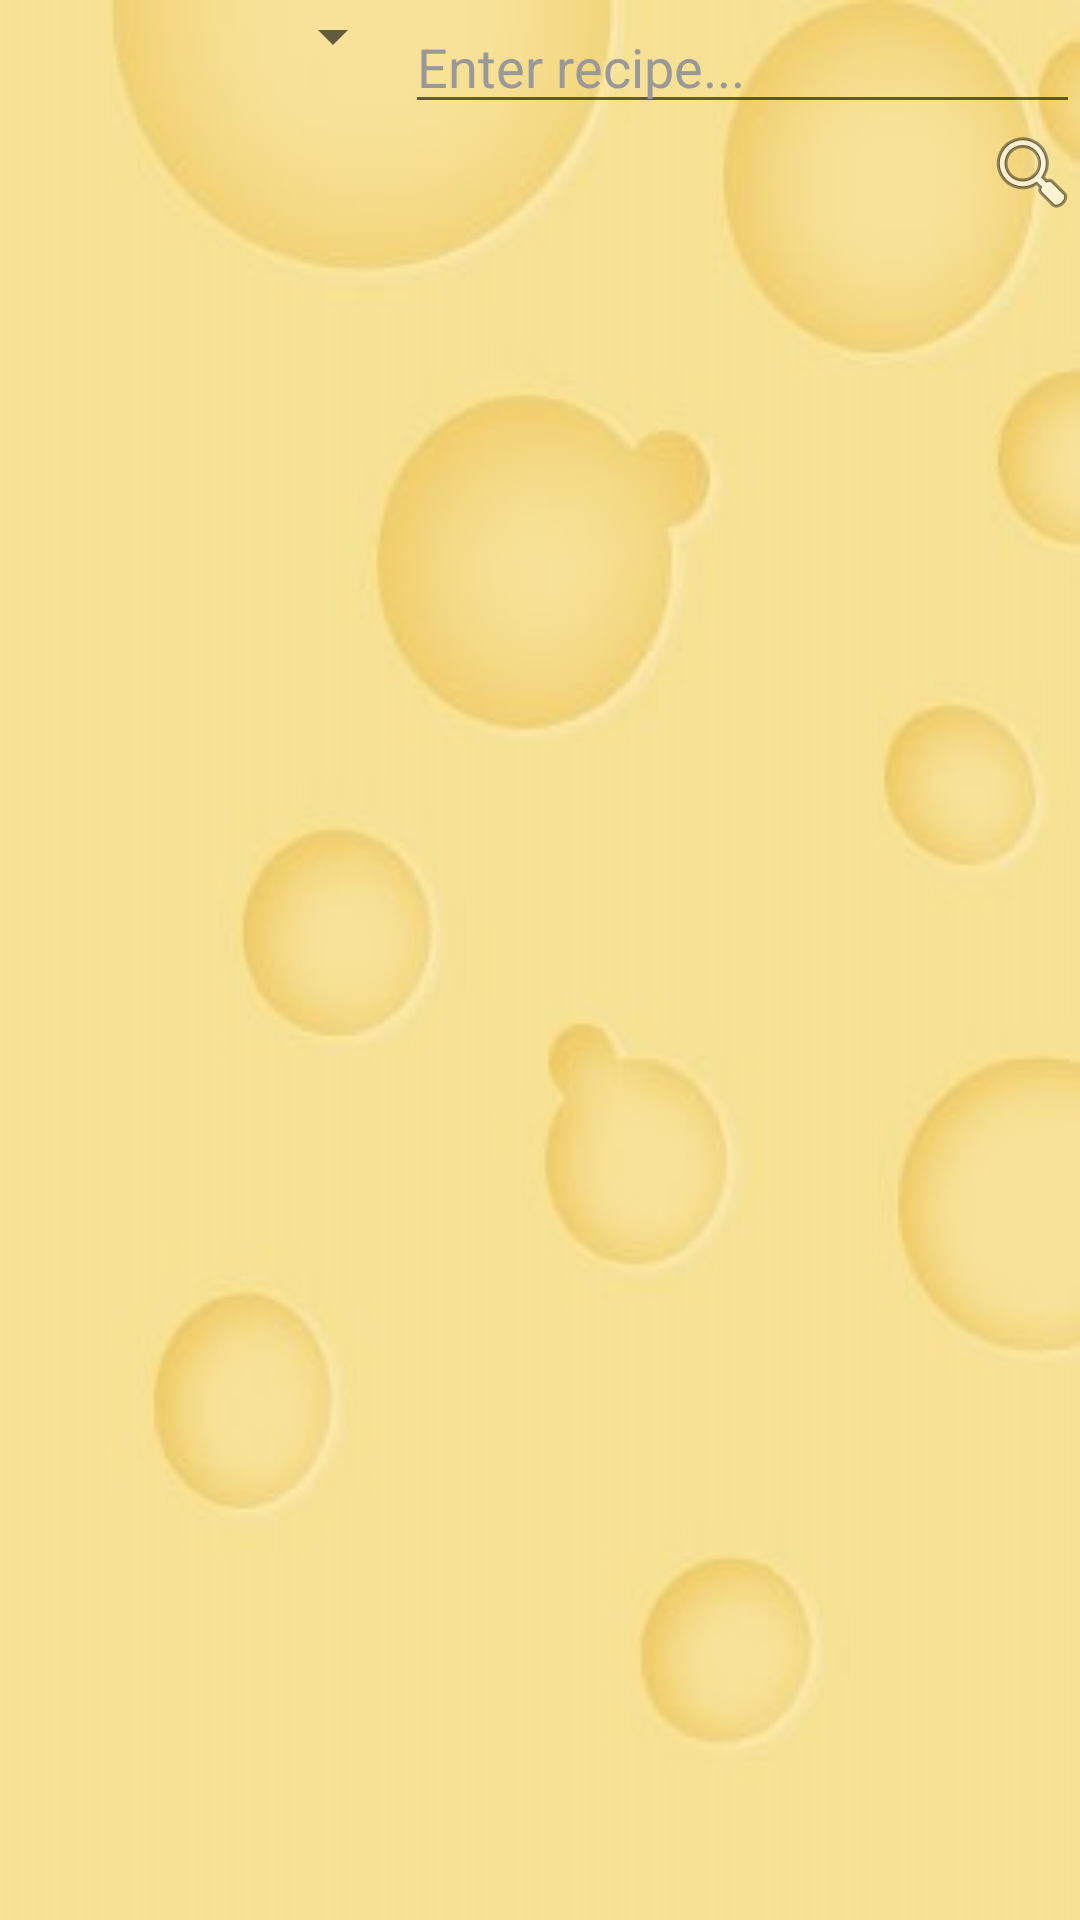

Screen size 1080px×1920px. Icon name, then its box in pixels as (x1, y1, x2, y2):
search: (996, 137, 1068, 211)
